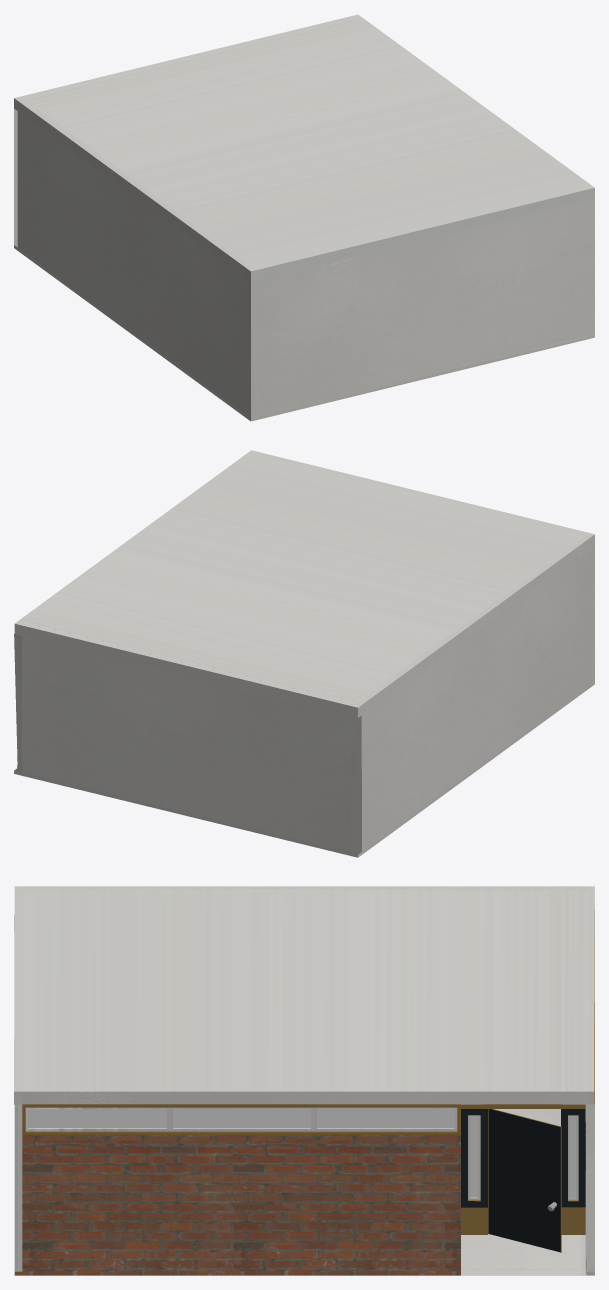
Rendered from finalsalfinalisimooooooooooooooooooooooo.fbx.
3 views of the same model, one above another, from view 1: azimuth 30°, elevation 25°; view 2: azimuth 150°, elevation 25°; view 3: azimuth 270°, elevation 25° (orthographic). The views are drawn at different scales.
Visible parts, largest first — view 1: Cube; view 2: Cube; view 3: Cube.
Part boxes in pixels (x1=…): Cube: x1=14, y1=14, x2=594, y2=421; Cube: x1=14, y1=450, x2=594, y2=857; Cube: x1=14, y1=886, x2=594, y2=1275.
Bounding box in the file's own units: 1400 × 584 × 1671.
12 materials, 3 textured.
